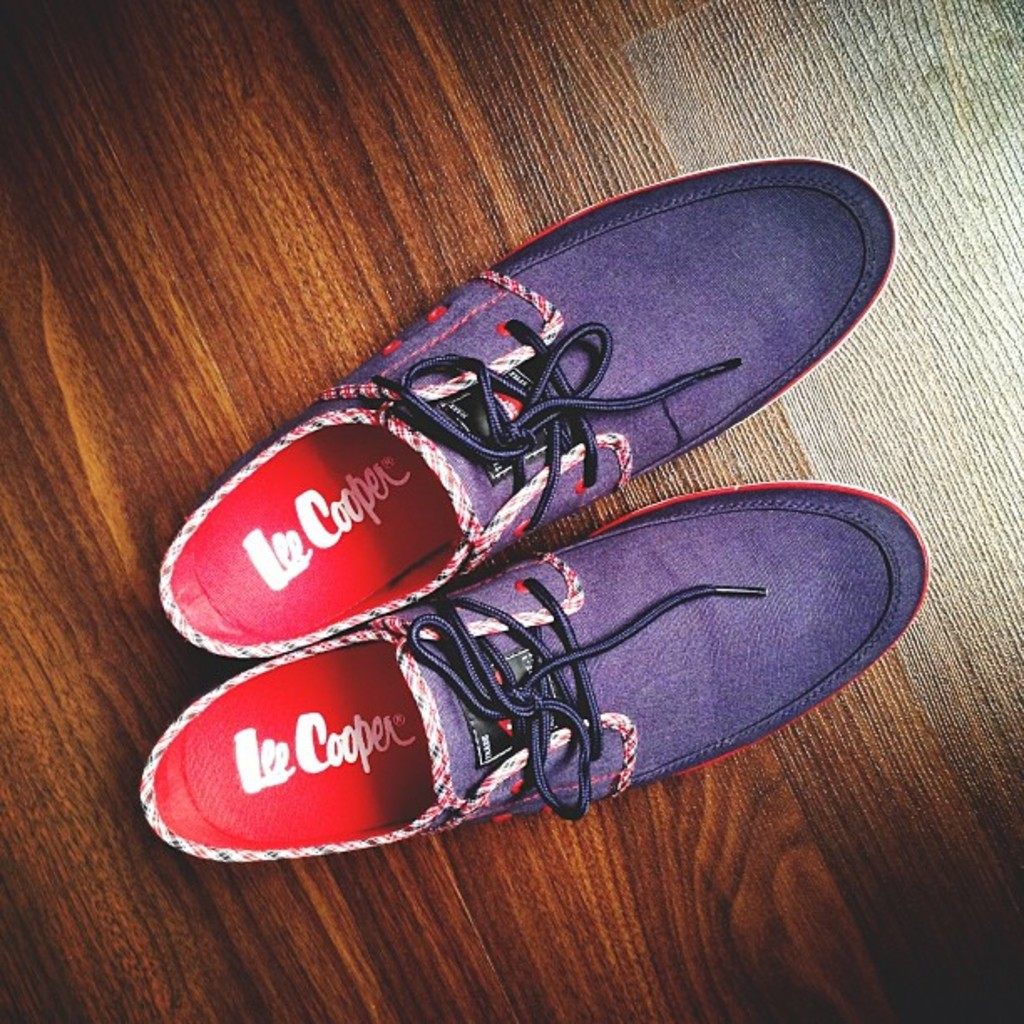Footwear: (162, 159, 899, 661), (136, 487, 925, 873)
